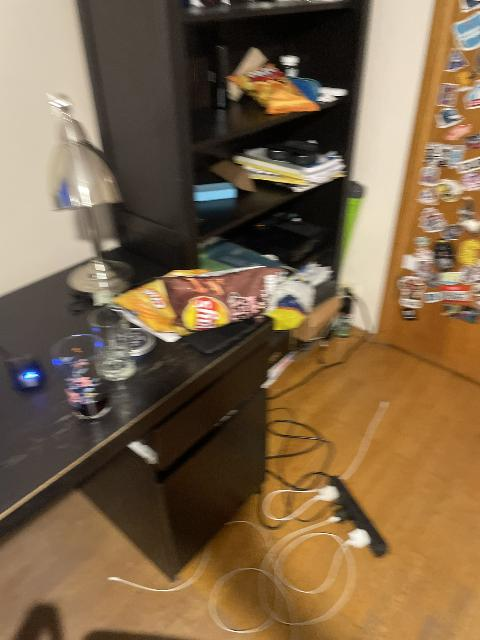Chio Cascaval 125g: (224, 59, 323, 115)
Chio Hula Hoops Cheese 70g: (107, 267, 223, 338)
Lays Beef Grilled Ribs 125g: (158, 268, 289, 338)
